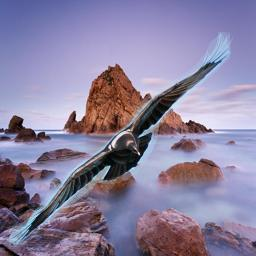Crow: (4, 32, 235, 247)
